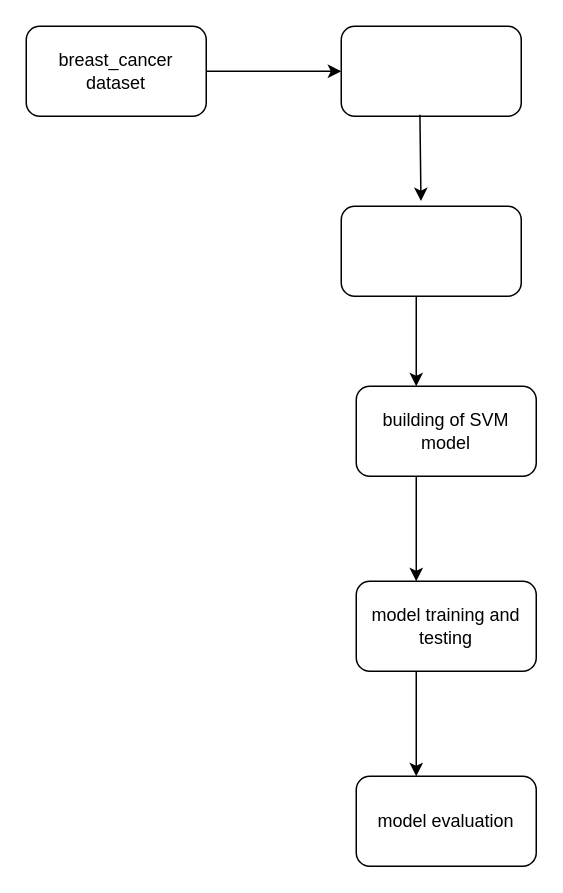
Some shapes in this 563 by 893 pixel diagram are drawn without their labels. Here are the shapes that lost their labels. From the top down, the centre of each, then its label:
At [430,70]: "Exploratory data analysis".
At [430,250]: "train-test split".
